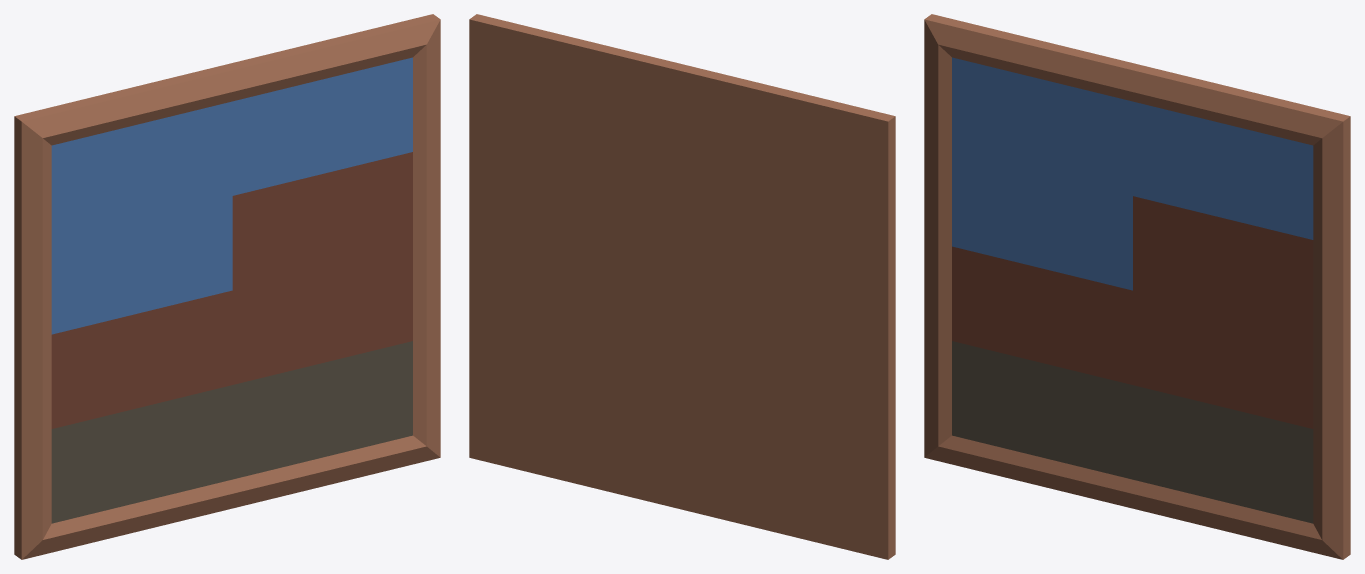
Rendered from frame_above_platters_diningroom.fbx.
3 views of the same model, side by side, from view 1: azimuth 30°, elevation 25°; view 2: azimuth 150°, elevation 25°; view 3: azimuth 330°, elevation 25° (orthographic).
Visible parts, largest first — view 1: frame_above_platters_diningroom; view 2: frame_above_platters_diningroom; view 3: frame_above_platters_diningroom.
Part boxes in pixels (bbox=[...]): frame_above_platters_diningroom: bbox=[14, 14, 440, 559]; frame_above_platters_diningroom: bbox=[469, 14, 895, 559]; frame_above_platters_diningroom: bbox=[924, 14, 1350, 559].
Bounding box in the file's own units: 138 × 138 × 6.3.
